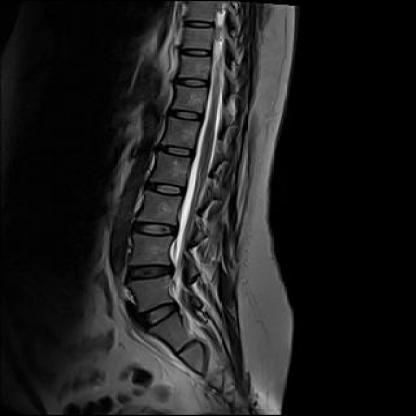Disc Bulgerotation: (139, 303, 182, 327), (128, 262, 173, 283), (132, 219, 179, 239)
